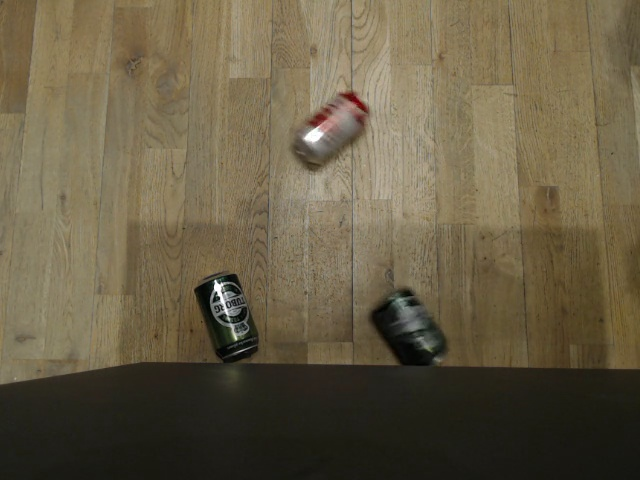beer: (368, 287, 450, 365), (193, 272, 262, 362)
cola: (290, 91, 369, 169)
